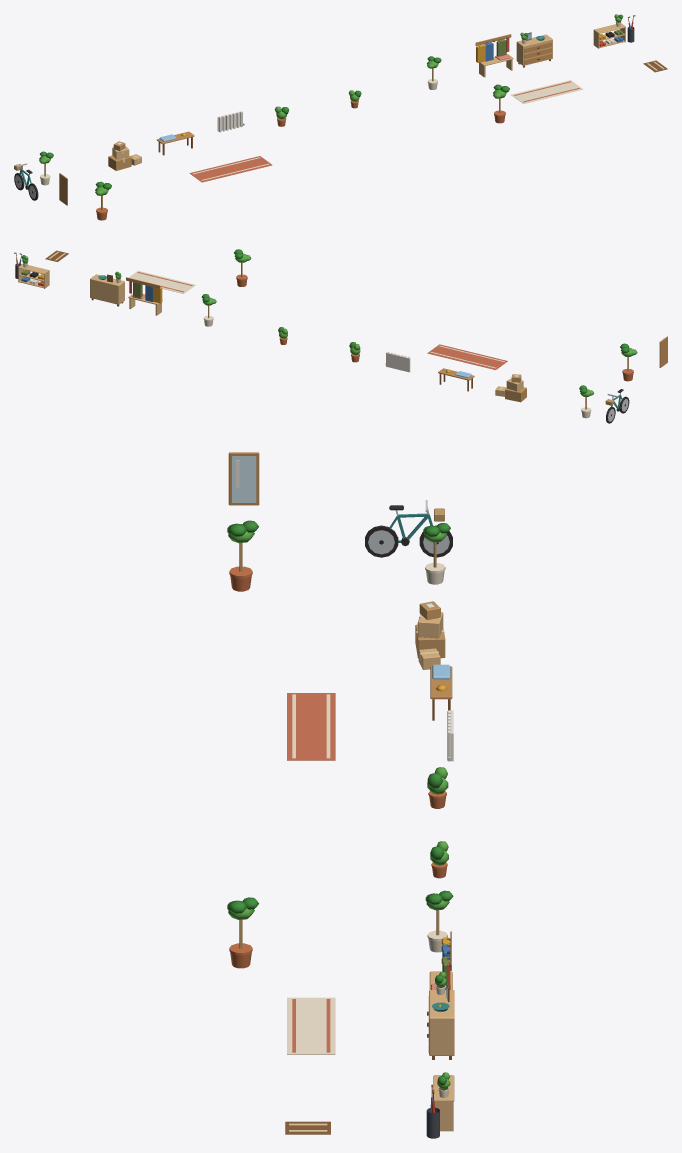
Rendered from einrichtung_flur.glb.
The picture shows the model from 3 angles, top to bottom: view 1: azimuth 30°, elevation 25°; view 2: azimuth 150°, elevation 25°; view 3: azimuth 270°, elevation 25°; orthographic projection. The views are drawn at different scales.
Visible parts, largest first — view 1: einrichtung_flur; view 2: einrichtung_flur; view 3: einrichtung_flur.
Boxes of the visible parts, bbox=[...] form: einrichtung_flur: bbox=[14, 14, 667, 220]; einrichtung_flur: bbox=[14, 249, 667, 423]; einrichtung_flur: bbox=[227, 452, 454, 1138].
Bounding box in the file's own units: 22.79 × 1.8 × 3.73.
